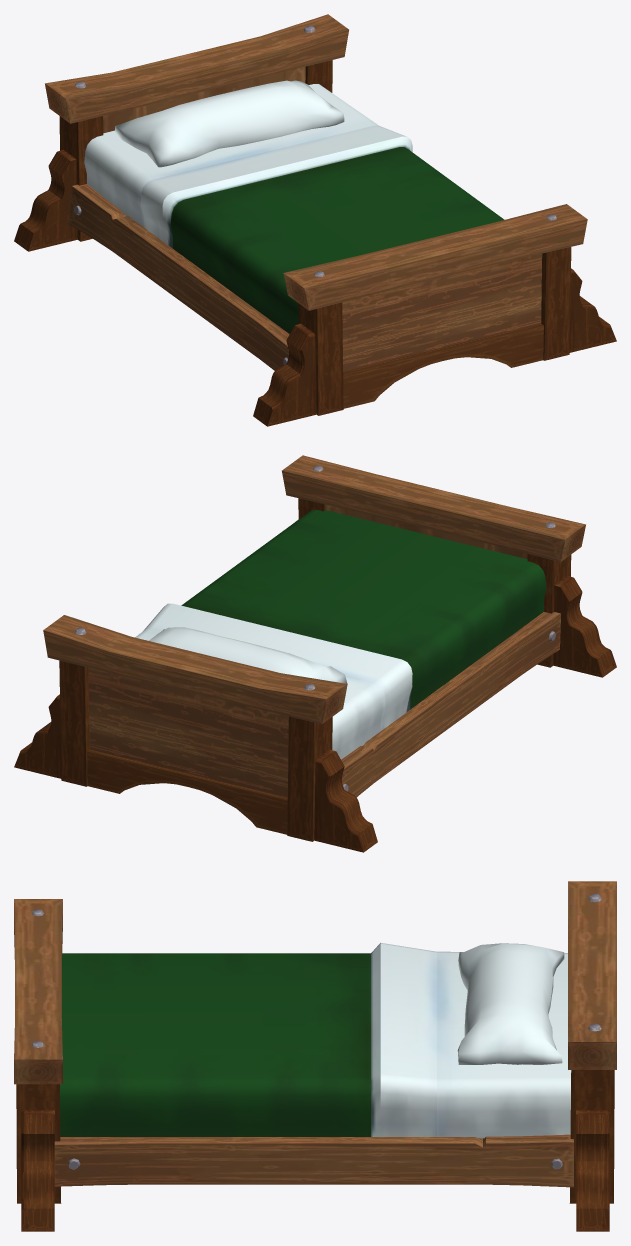
Rendered from Bed Twin2.glb.
3 views of the same model, one above another, from view 1: azimuth 30°, elevation 25°; view 2: azimuth 150°, elevation 25°; view 3: azimuth 270°, elevation 25° (orthographic). The views are drawn at different scales.
Parts seen in each view (by area): view 1: Bed_Twin2; view 2: Bed_Twin2; view 3: Bed_Twin2.
Boxes of the visible parts, <box> form: Bed_Twin2: <box>14,14,616,426</box>; Bed_Twin2: <box>14,455,616,852</box>; Bed_Twin2: <box>14,881,616,1231</box>.
Size of the model in its own units: 1.88 by 0.7596 by 2.41.
Materials: 3 (3 with a texture image).
